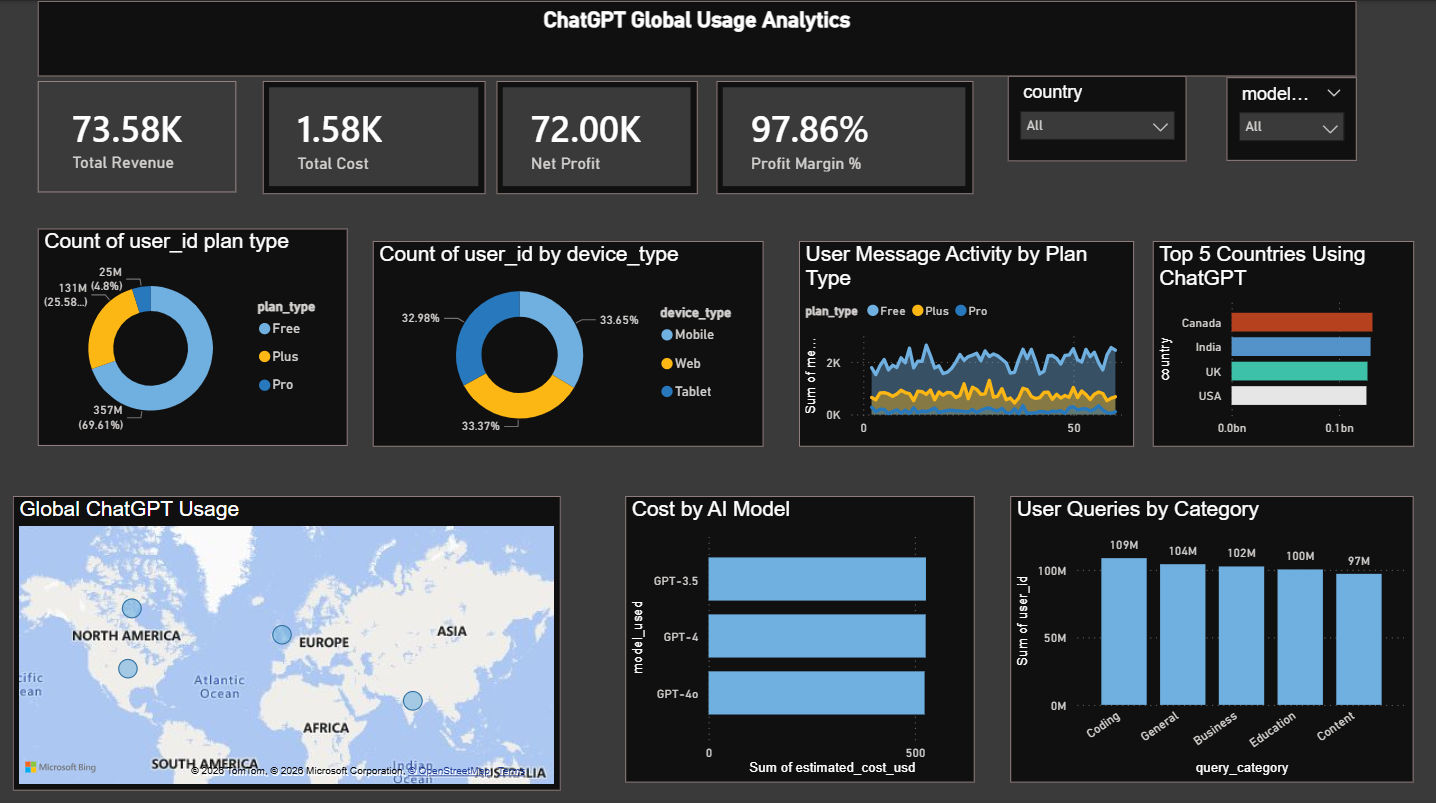

This screenshot's page, from the dashboard's own definition file:
{"tool":"powerbi","page":{"name":"Page 1","canvas":[1280,720],"ordinal":0},"visuals":[{"type":"cardVisual","fields":{"Data":["chatgpt_usage_synthetic_dataset.Total Revenue"]},"box":[34.4,71.2,176.7,99.4],"z":0},{"type":"cardVisual","fields":{"Data":["chatgpt_usage_synthetic_dataset.Net Profit"]},"box":[442.8,70.9,179.1,100.8],"z":1000},{"type":"cardVisual","fields":{"Data":["chatgpt_usage_synthetic_dataset.Total Cost"]},"box":[234.4,71.2,198.8,100.6],"z":2000},{"type":"cardVisual","fields":{"Data":["chatgpt_usage_synthetic_dataset.Profit Margin %"]},"box":[639.4,70.9,228.9,100.8],"z":3000},{"type":"slicer","fields":{"Values":["chatgpt_usage_synthetic_dataset.country"]},"box":[898.1,67.2,159.2,75.9],"z":4000},{"type":"slicer","fields":{"Values":["chatgpt_usage_synthetic_dataset.model_used"]},"box":[1093.4,68.4,115.7,74.6],"z":5000},{"type":"donutChart","title":"Count of user_id  plan type","fields":{"Category":["chatgpt_usage_synthetic_dataset.plan_type"],"Y":["Sum(chatgpt_usage_synthetic_dataset.user_id)"]},"box":[34.3,203.1,275.8,193.5],"z":6000},{"type":"clusteredBarChart","title":"Cost by AI Model","fields":{"Category":["chatgpt_usage_synthetic_dataset.model_used"],"Y":["Sum(chatgpt_usage_synthetic_dataset.estimated_cost_usd)"]},"box":[557.3,440.4,311,255],"z":7000},{"type":"map","title":"Global ChatGPT Usage","fields":{"Category":["chatgpt_usage_synthetic_dataset.country"],"Size":["Sum(chatgpt_usage_synthetic_dataset.tokens_used)"]},"box":[12.4,440.4,487.6,262.5],"z":8000},{"type":"columnChart","title":"User Queries by Category","fields":{"Category":["chatgpt_usage_synthetic_dataset.query_category"],"Y":["Sum(chatgpt_usage_synthetic_dataset.user_id)"]},"box":[900.6,440.4,359.5,255],"z":9000},{"type":"donutChart","title":"Count of user_id by device_type","fields":{"Category":["chatgpt_usage_synthetic_dataset.device_type"],"Y":["Sum(chatgpt_usage_synthetic_dataset.user_id)"]},"box":[333.4,214,348.3,182.9],"z":10000},{"type":"areaChart","title":"User Message Activity by Plan Type","fields":{"Y":["Sum(chatgpt_usage_synthetic_dataset.messages_per_day)"],"Category":["chatgpt_usage_synthetic_dataset.session_duration_min"],"Series":["chatgpt_usage_synthetic_dataset.plan_type"]},"box":[712.9,213.5,298.2,182.8],"z":11000},{"type":"textbox","box":[34.3,0,1174.6,67.2],"z":12000},{"type":"clusteredBarChart","title":"Top 5 Countries Using ChatGPT","fields":{"Y":["Sum(chatgpt_usage_synthetic_dataset.user_id)"],"Category":["chatgpt_usage_synthetic_dataset.country"]},"box":[1027,213.5,233.1,182.8],"z":13000}]}

Visuals, with their boxes in screenshot pixels (x1, y1, x2, y2), scaled from the page's 1280x720 canvas onto the 1436x803 screenshot:
cardVisual - chatgpt_usage_synthetic_dataset.Total Revenue: box=[39, 79, 237, 190]
cardVisual - chatgpt_usage_synthetic_dataset.Net Profit: box=[497, 79, 698, 191]
cardVisual - chatgpt_usage_synthetic_dataset.Total Cost: box=[263, 79, 486, 192]
cardVisual - chatgpt_usage_synthetic_dataset.Profit Margin %: box=[717, 79, 974, 191]
slicer - chatgpt_usage_synthetic_dataset.country: box=[1008, 75, 1186, 160]
slicer - chatgpt_usage_synthetic_dataset.model_used: box=[1227, 76, 1356, 159]
"Count of user_id  plan type" donutChart: box=[38, 227, 348, 442]
"Cost by AI Model" clusteredBarChart: box=[625, 491, 974, 776]
"Global ChatGPT Usage" map: box=[14, 491, 561, 784]
"User Queries by Category" columnChart: box=[1010, 491, 1414, 776]
"Count of user_id by device_type" donutChart: box=[374, 239, 765, 443]
"User Message Activity by Plan Type" areaChart: box=[800, 238, 1134, 442]
textbox: box=[38, 0, 1356, 75]
"Top 5 Countries Using ChatGPT" clusteredBarChart: box=[1152, 238, 1414, 442]
